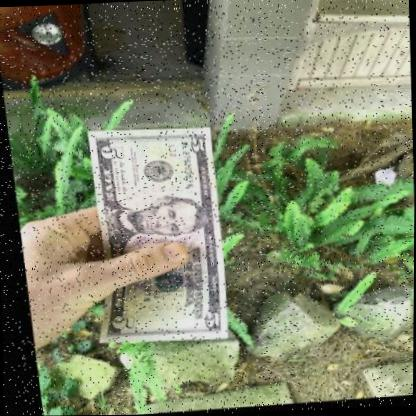five-front: (85, 129, 223, 344)
